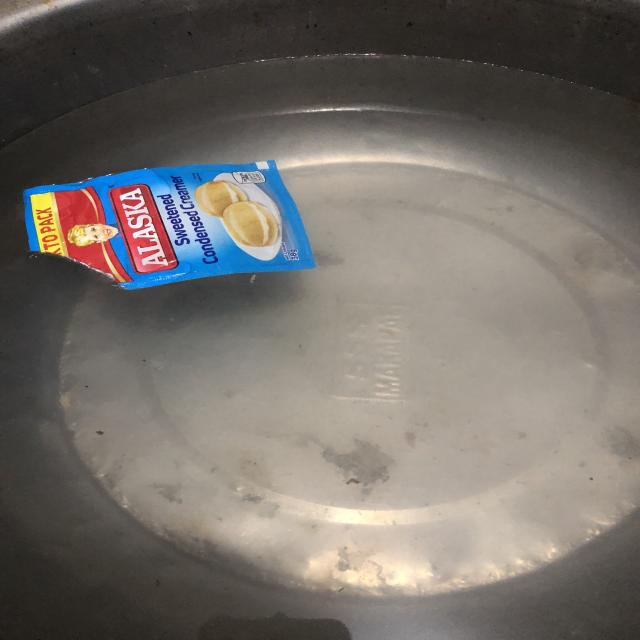Plastic Wrapper: (9, 159, 316, 302)
